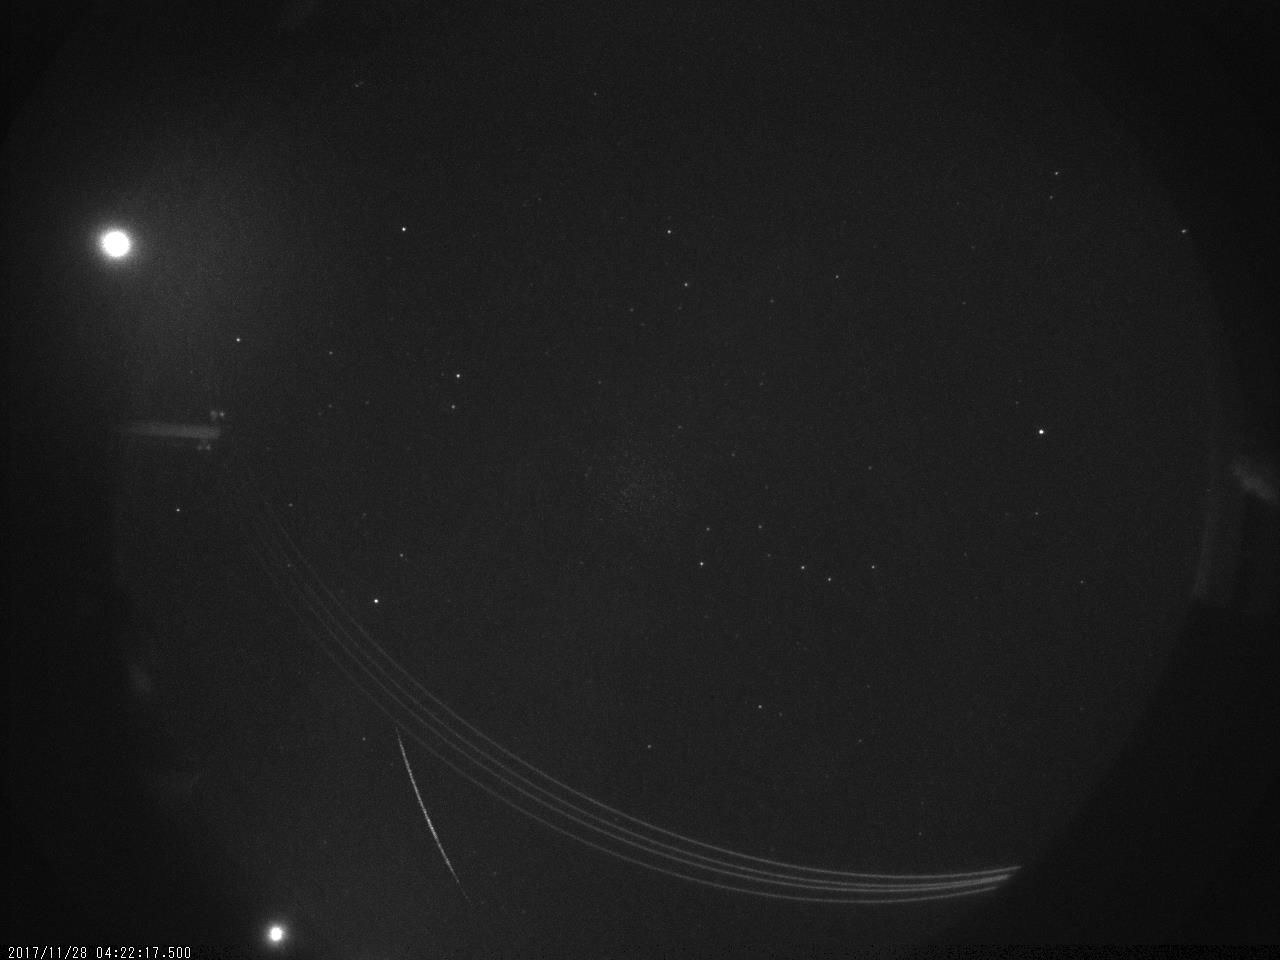meteor: (375, 723, 490, 918)
